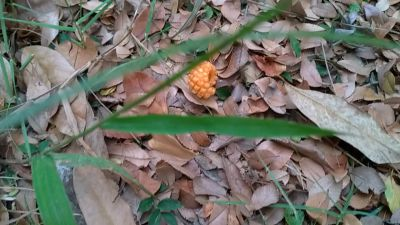eggs: (184, 57, 218, 99)
